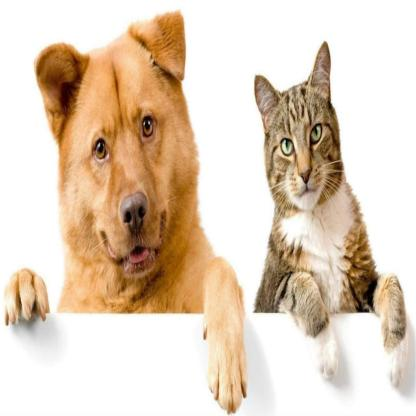cat: (248, 51, 378, 227)
dog: (24, 24, 226, 278)
